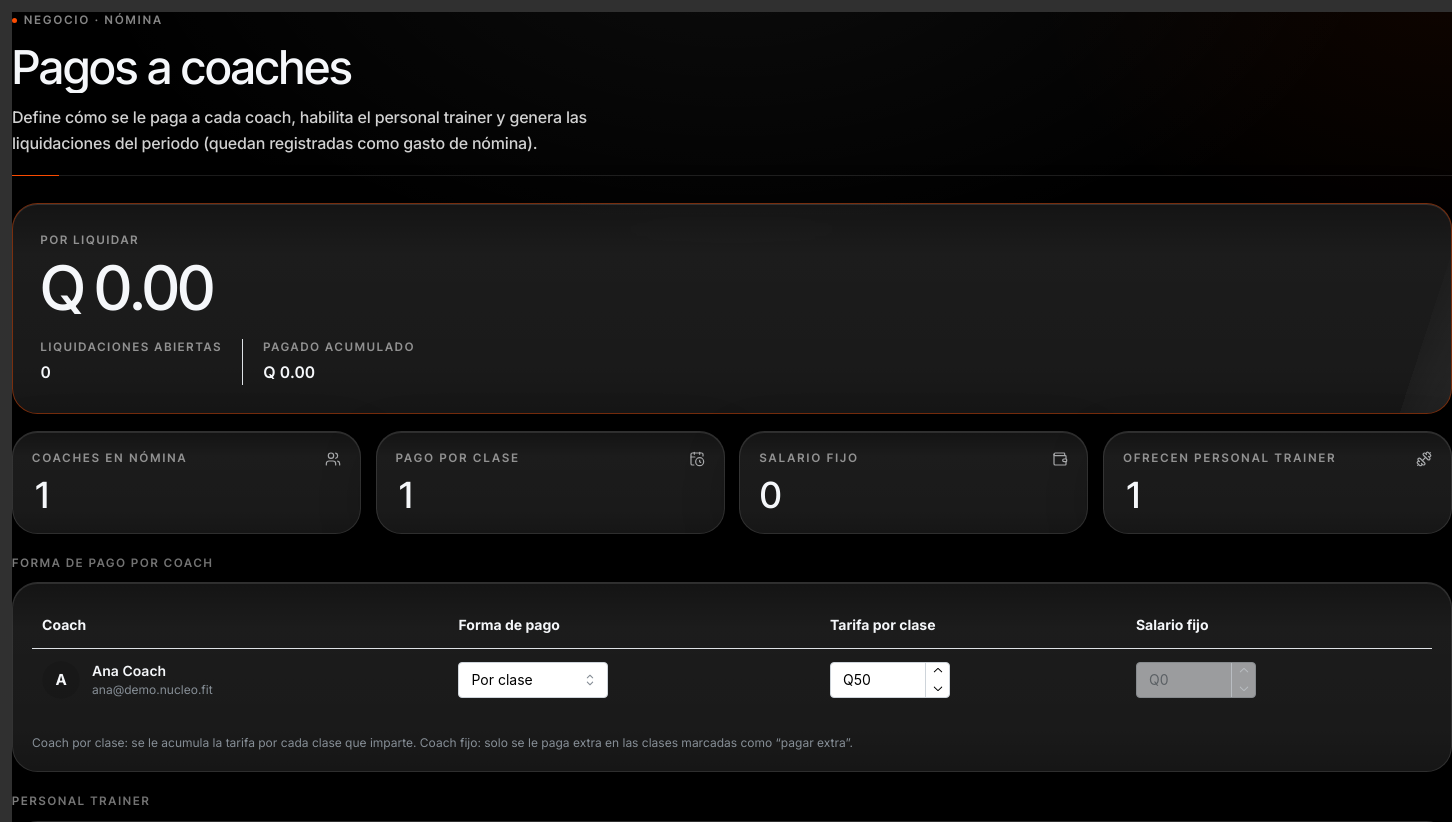
Test case: pagos a coaches › si el guardado falla, la tarifa vuelve al valor guardado
Replace the text in the 2nd field with "Q75": (890, 680) [830, 662, 950, 698]
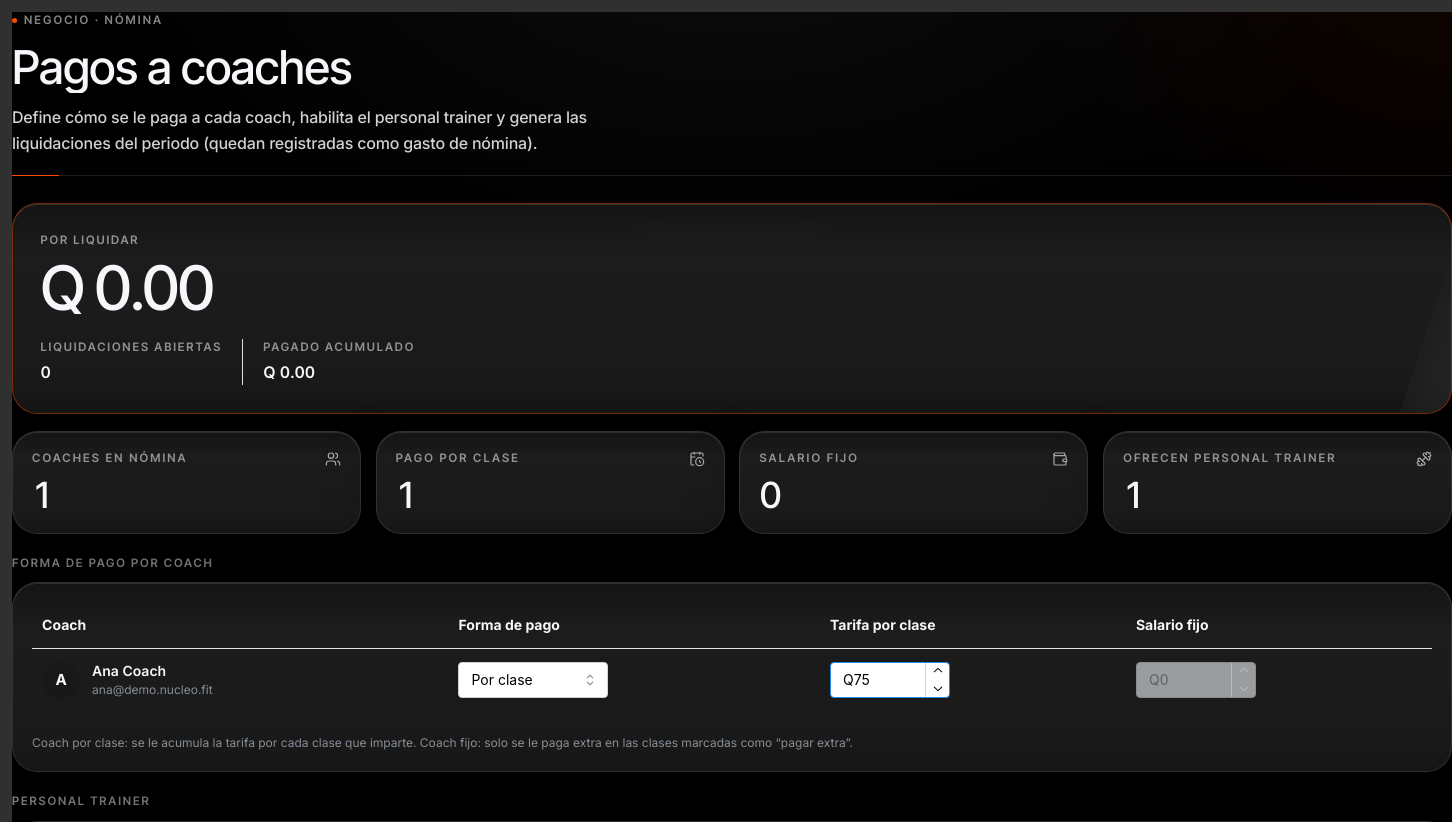
Leave the 2nd field, box [830, 662, 950, 698]
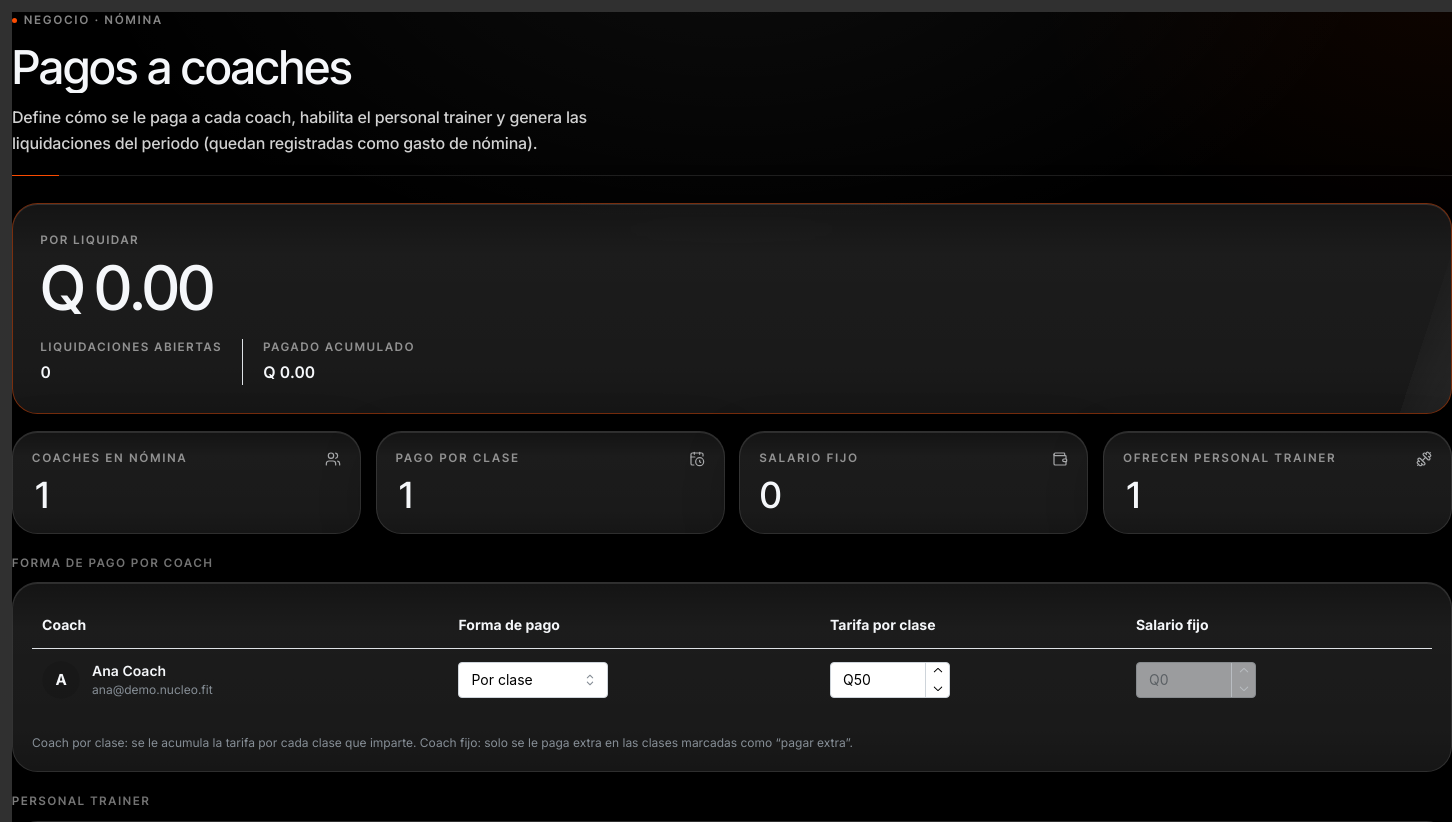
Check: the 2nd field holds "Q50", box [830, 662, 950, 698]
